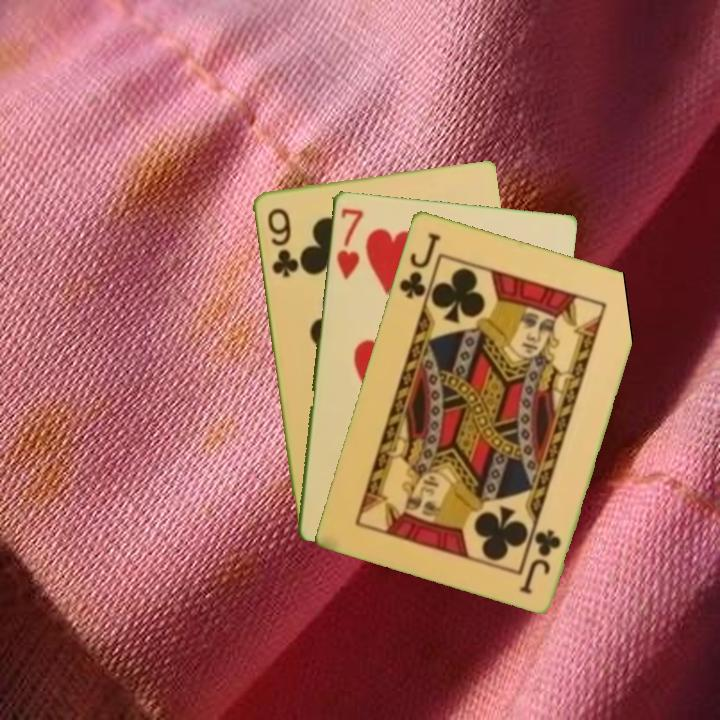7h: (332, 204, 366, 282)
9c: (263, 204, 298, 280)
Jc: (395, 228, 443, 302), (516, 525, 564, 597)
